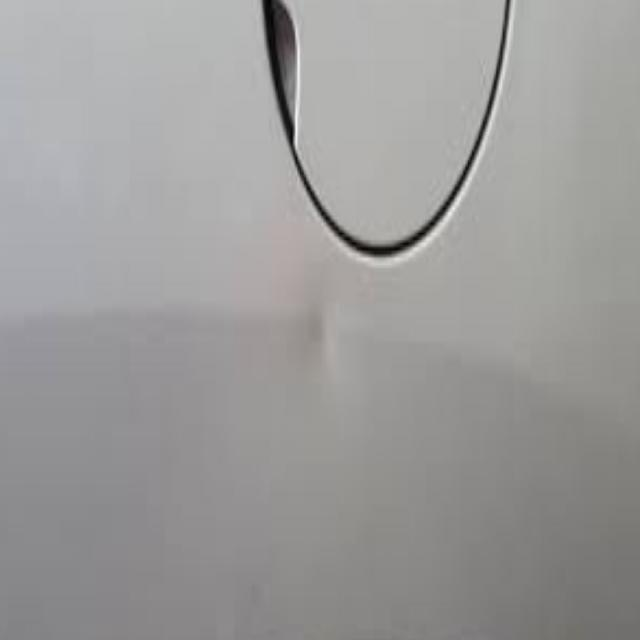dents: (290, 258, 350, 397)
